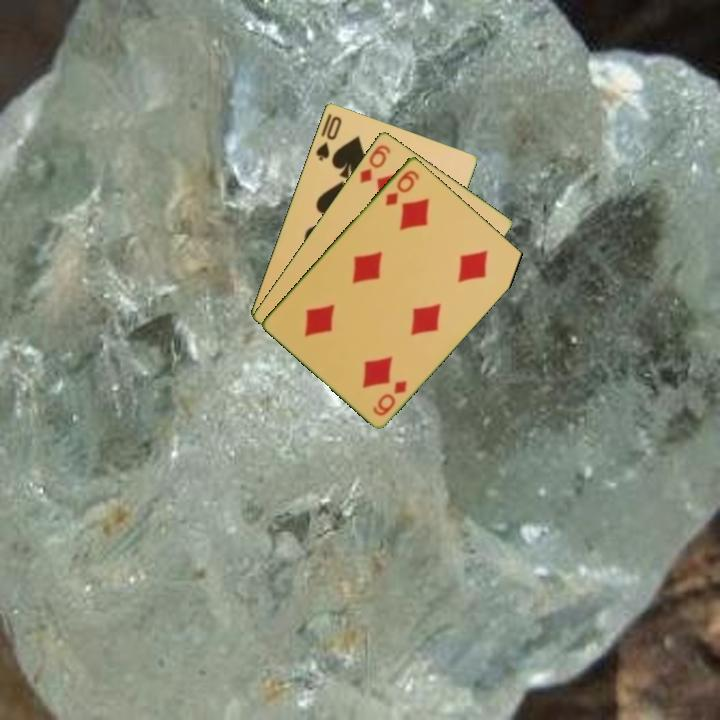10s: (312, 112, 344, 163)
6d: (381, 166, 422, 209), (369, 376, 410, 419), (356, 141, 393, 186)
